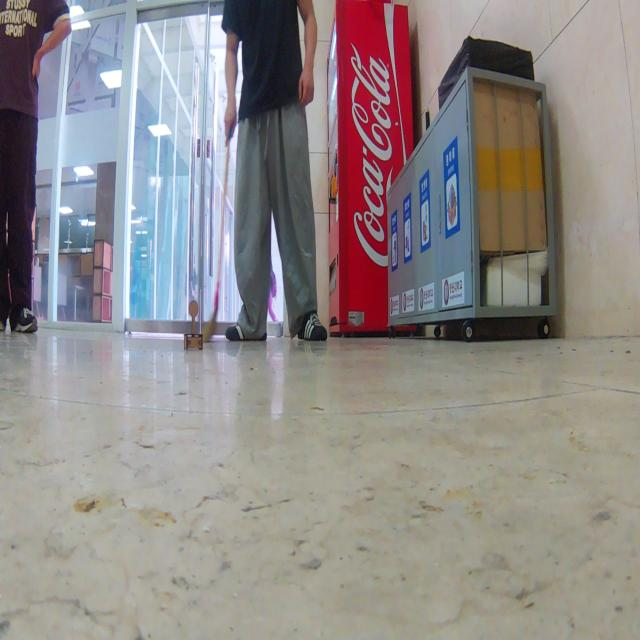target: (184, 299, 203, 350)
